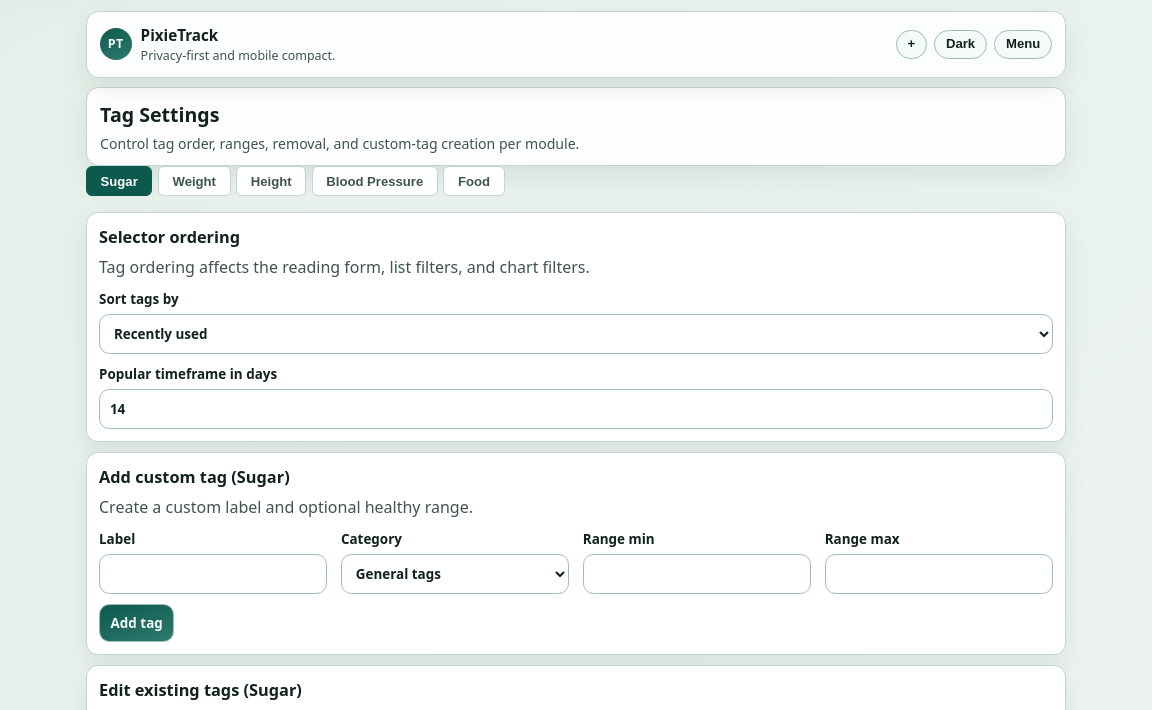
it: TagManagementPage › rejects blank tag labels
Click the button "Add tag". click: (137, 623)
box: [99,604,174,642]
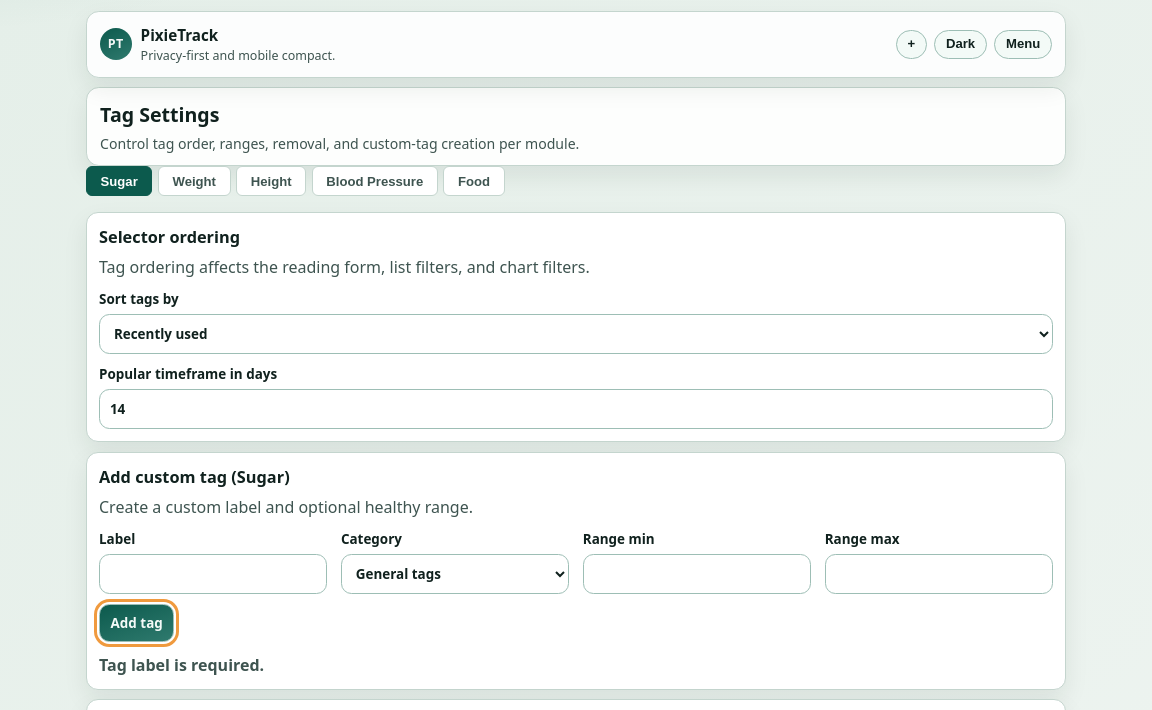
Result: the text "Tag label is required." is shown at [99,654,264,676]
